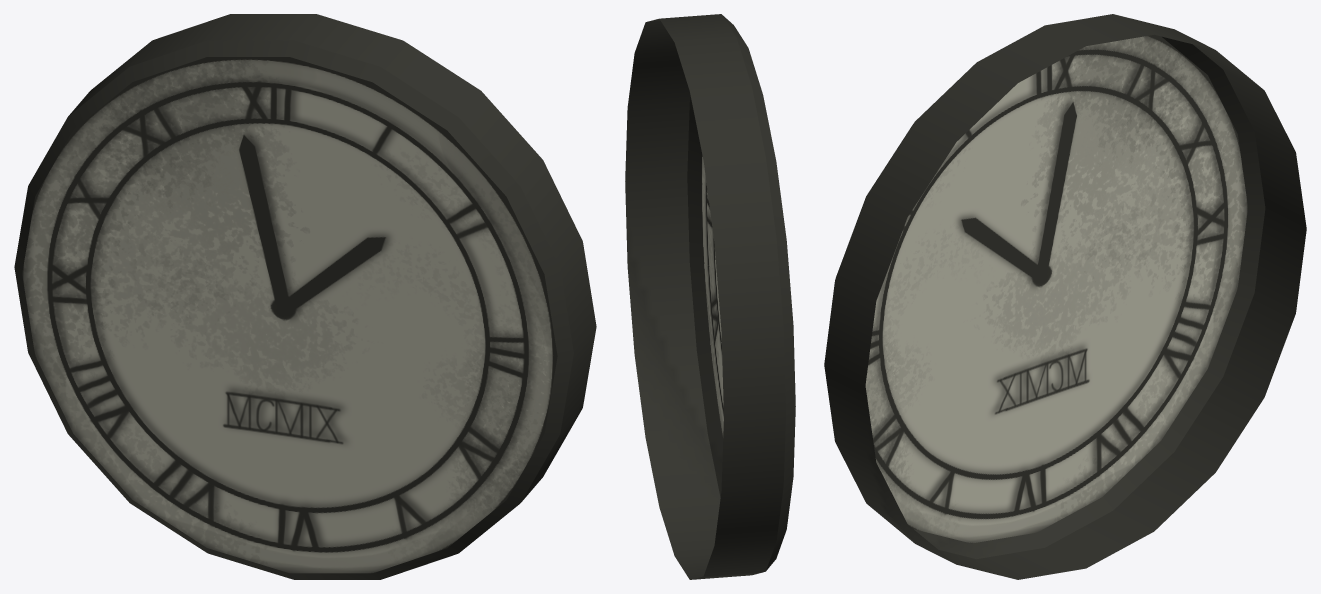
Rendered from Reloj.fbx.
3 renders of one model, left to right at view 1: azimuth 30°, elevation 25°; view 2: azimuth 150°, elevation 25°; view 3: azimuth 270°, elevation 25°, orthographic. The views are drawn at different scales.
Parts seen in each view (by area): view 1: Reloj; view 2: Reloj; view 3: Reloj.
Boxes of the visible parts, x1,y1,x2,y2 form: Reloj: (14, 14, 596, 579); Reloj: (625, 14, 795, 579); Reloj: (824, 14, 1306, 579).
Size of the model in its own units: 1.46 by 2 by 1.67.
